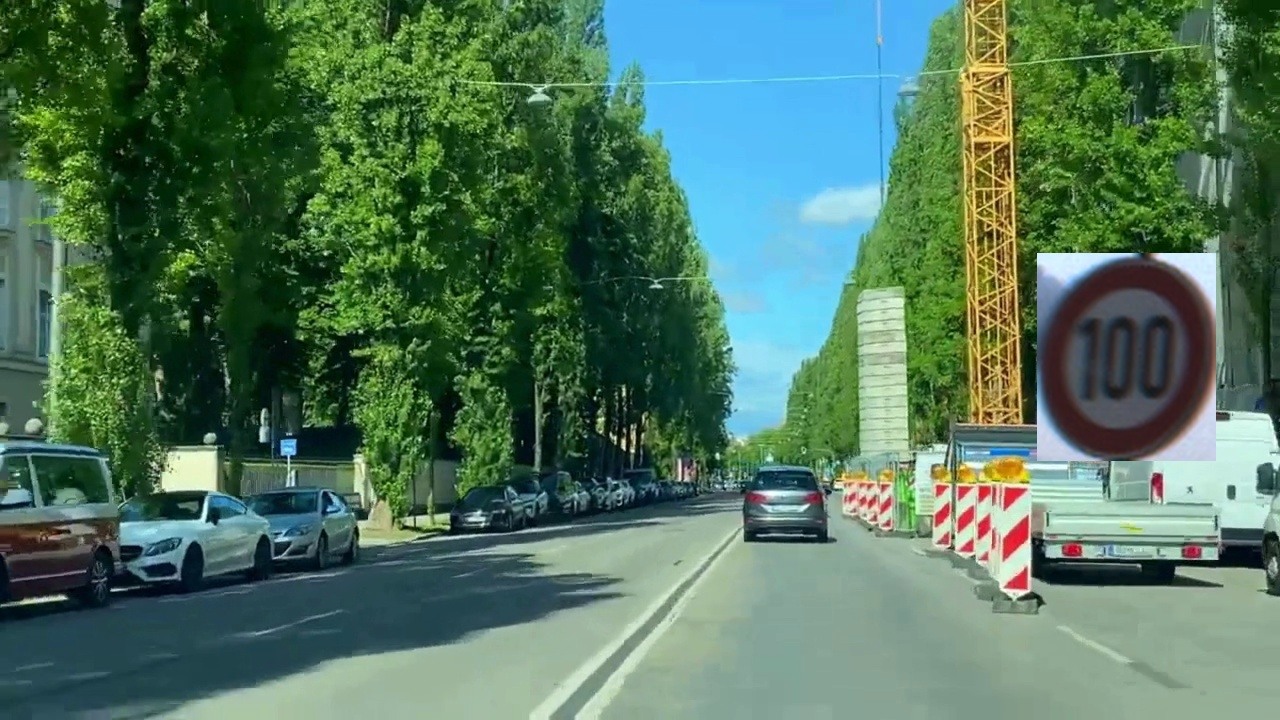Speed 100: (1037, 253, 1216, 461)
